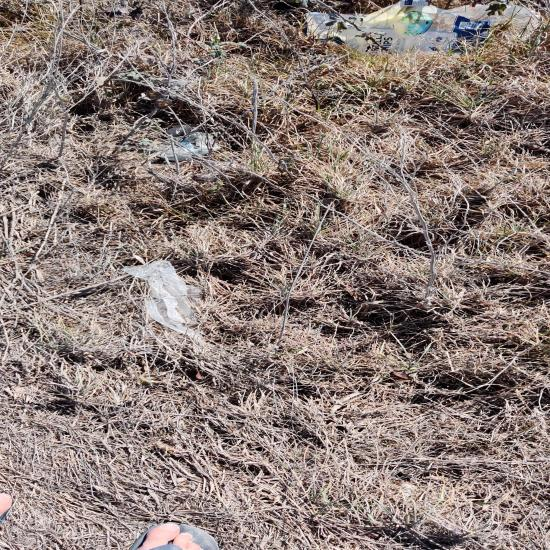Corrugated carton: (0, 0, 546, 522), (1, 459, 428, 550)
